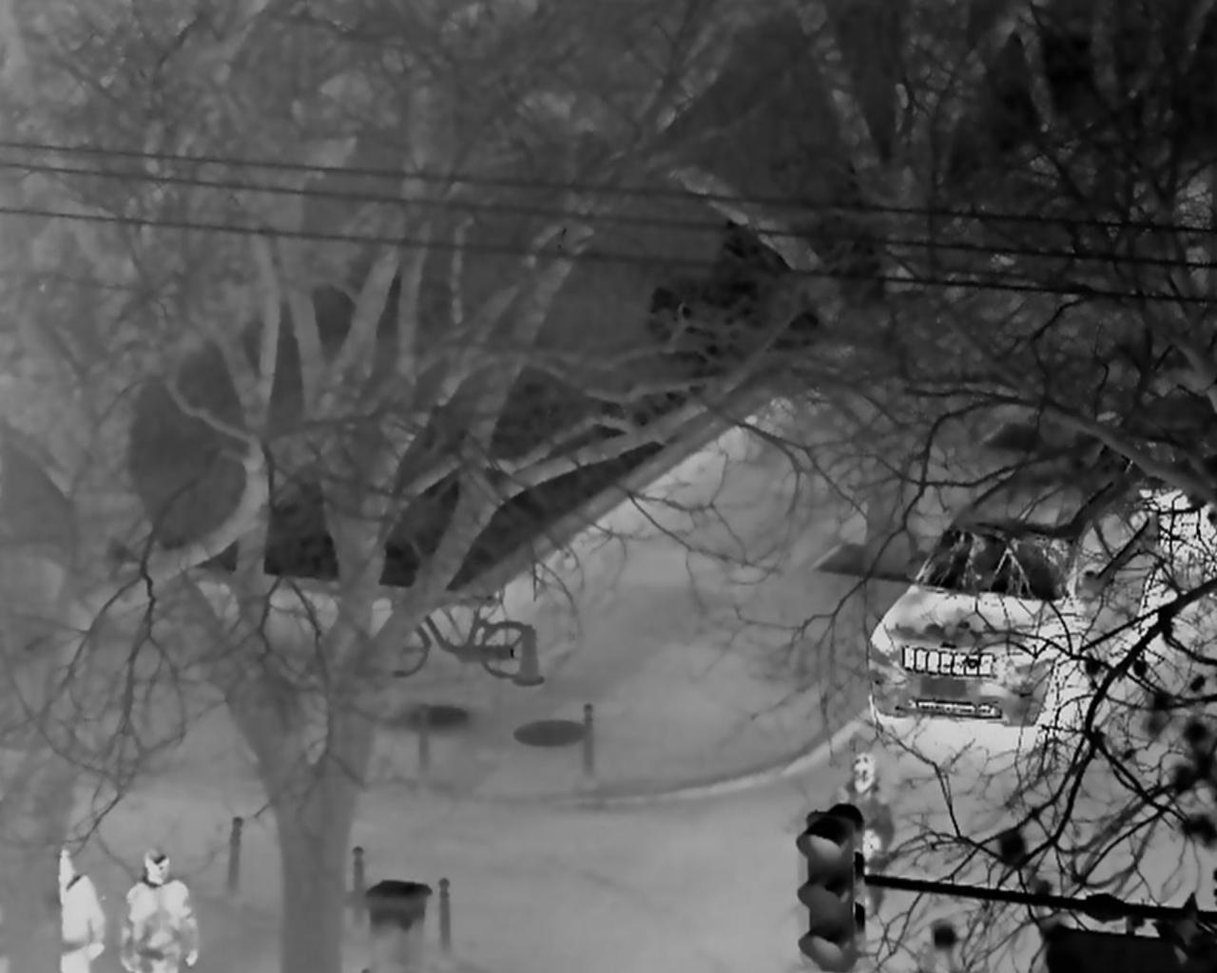person: (120, 849, 200, 973), (829, 750, 887, 865), (61, 847, 106, 973)
